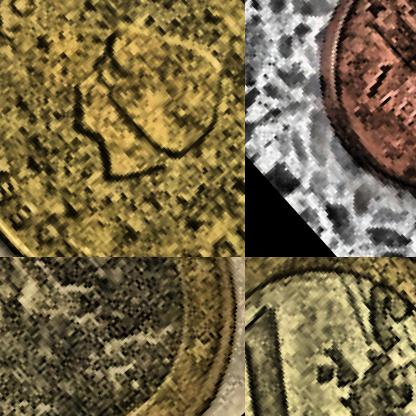coin: (0, 0, 244, 256), (252, 0, 415, 248), (0, 257, 244, 415), (245, 257, 415, 415)
